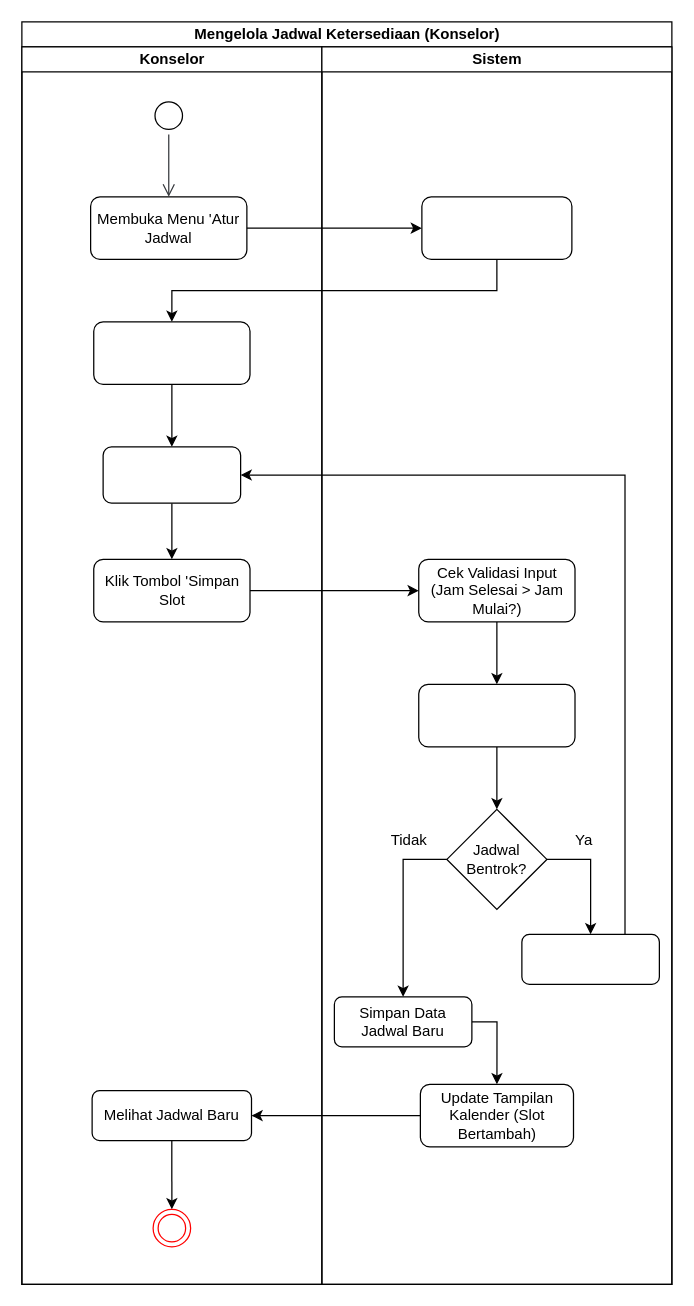
The diagram is 694 pixels wide and 1306 high, and some of its shapes have lost their labels. Each missing label, with the centre of its shape:
Cek Bentrok Jadwal di Database: (x=496, y=715)
Input Jam Mulai & Jam Selesai: (x=171, y=474)
Memilih Tanggal: (x=171, y=352)
Menampilkan Kalender & List Jadwal: (x=496, y=227)
Tampilkan Alert Error/Jadwal Penuh: (x=590, y=958)
